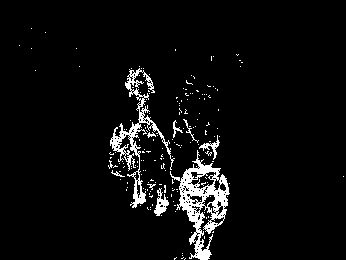person: (177, 144, 230, 260), (130, 118, 169, 214), (110, 125, 137, 204), (171, 118, 197, 182), (125, 68, 154, 118)
